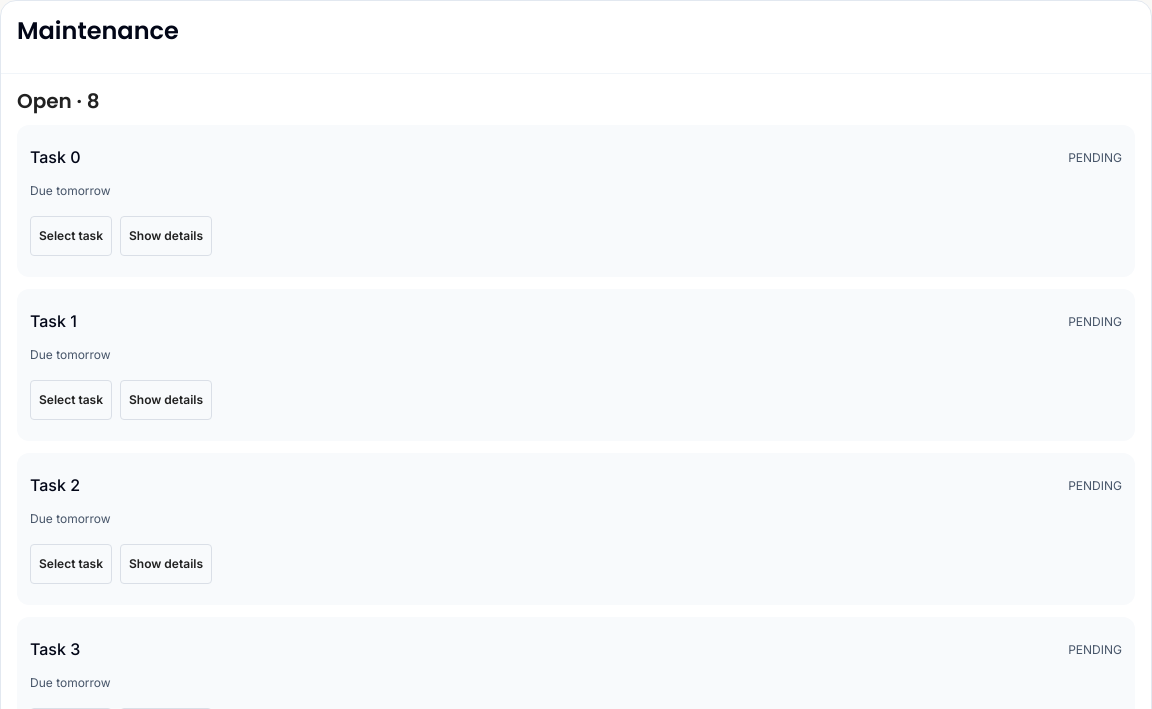
the task workspace moves between tasks in the current result without returning to chat
Click the button "Task 0" at {"x": 55, "y": 158}, box [30,138,80,178]
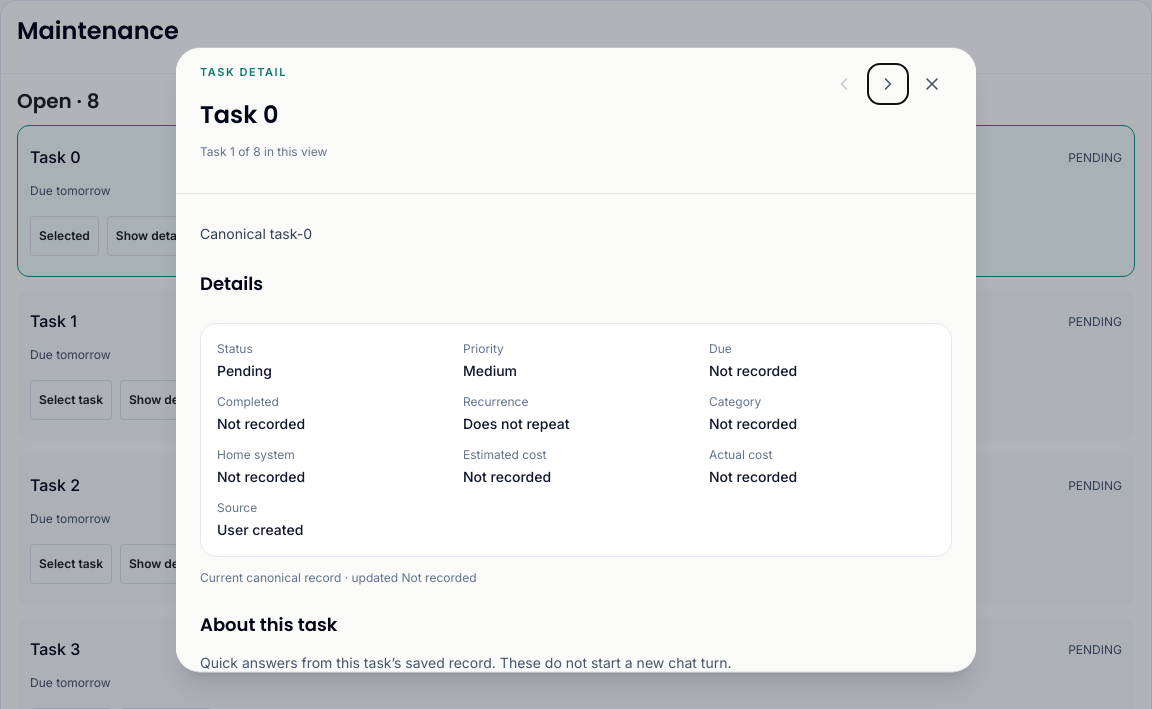
Check: the button named "Previous maintenance task" is disabled, box [824,64,864,104]
Check: the text "Task 1 of 8 in this view" is shown, box [200,143,327,161]
Click the button named "Next maintenance task" at {"x": 888, "y": 84}, box [868,64,908,104]
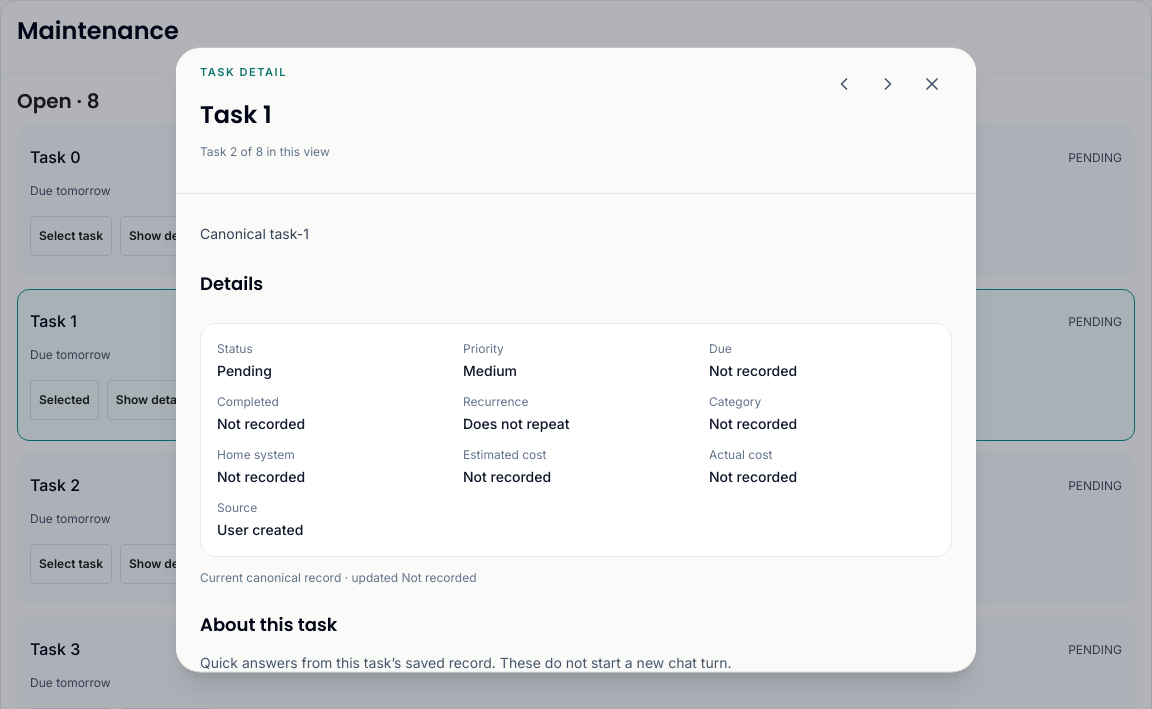
Check: the text "Canonical task-1" is shown, box [200,225,309,242]
Check: the text "Task 2 of 8 in this view" is shown, box [200,143,330,161]
